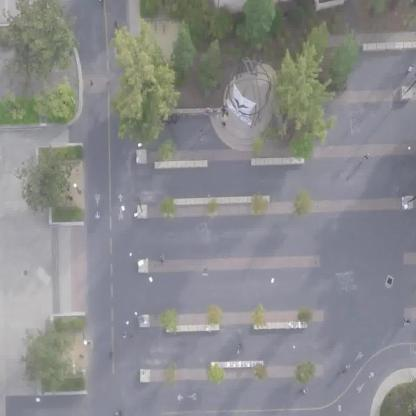Bicyclist: (336, 359, 359, 377), (296, 383, 314, 397), (235, 341, 253, 355), (157, 251, 169, 266), (360, 148, 371, 164), (401, 315, 412, 327)
Pedestrian: (203, 105, 215, 117), (216, 100, 226, 113), (404, 58, 412, 72), (220, 121, 231, 131), (125, 316, 134, 326), (107, 350, 116, 360), (120, 331, 128, 341), (221, 110, 232, 116)
